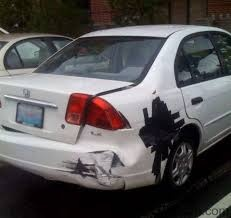Dent: (84, 147, 125, 188)
